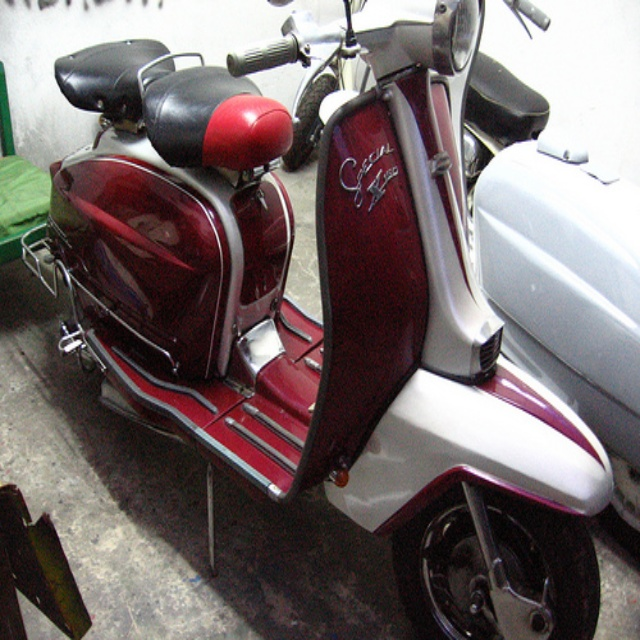Motorcycle: (46, 2, 614, 640)
